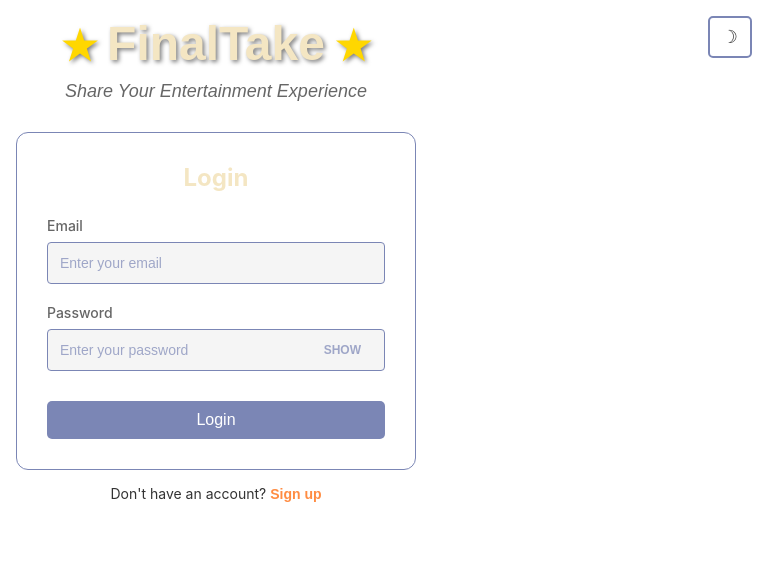
Test: LoginPage › shows validation error if email or password missing
What coordinates should you click on to do the following:
click the button "Login"
I would click on:
 (216, 420)
Its box is [47, 401, 385, 439].
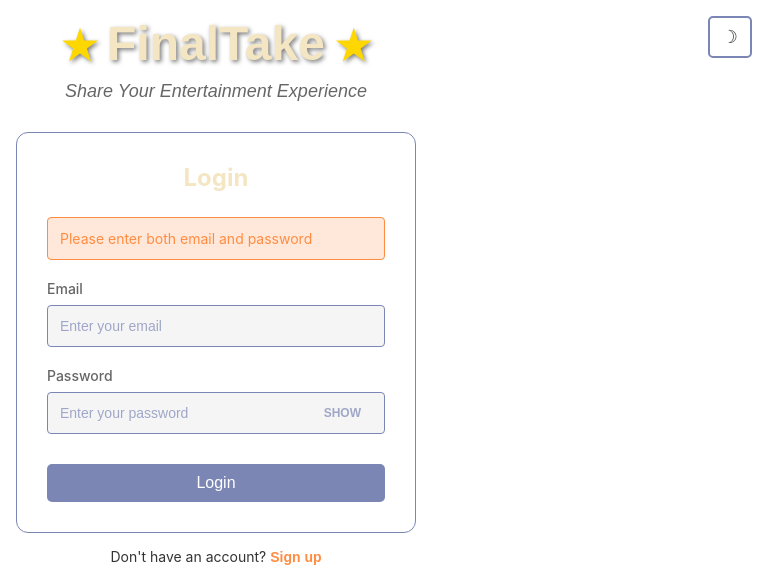
Expected: the text "Please enter both email and password" is shown, [47, 217, 385, 260]
